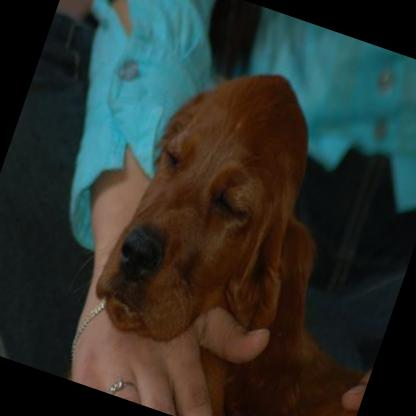Irish_setter: (60, 34, 416, 416)
